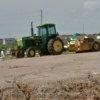Tractor: (20, 13, 68, 56)
